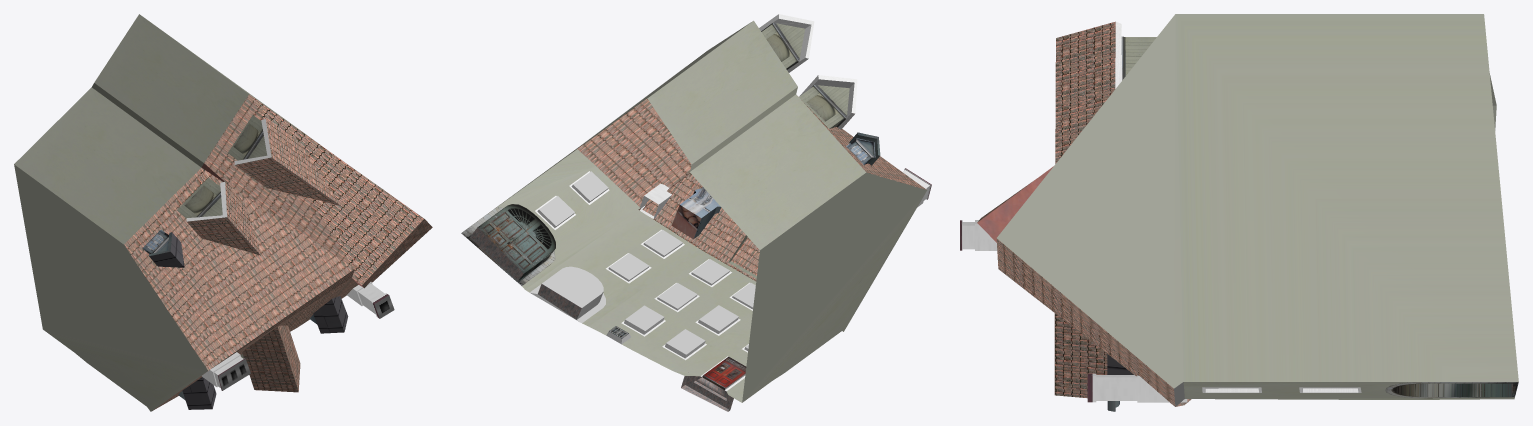
The model's file is Kuninga_2.obj.
3 views of the same model, side by side, from view 1: azimuth 30°, elevation 25°; view 2: azimuth 150°, elevation 25°; view 3: azimuth 270°, elevation 25° (orthographic). The views are drawn at different scales.
Visible parts, largest first — view 1: Kuninga_2; view 2: Kuninga_2; view 3: Kuninga_2.
Part boxes in pixels (bbox=[...]): Kuninga_2: bbox=[14, 14, 432, 411]; Kuninga_2: bbox=[461, 14, 931, 411]; Kuninga_2: bbox=[960, 14, 1518, 411].
Bounding box in the file's own units: 15.47 × 14.73 × 17.53.
